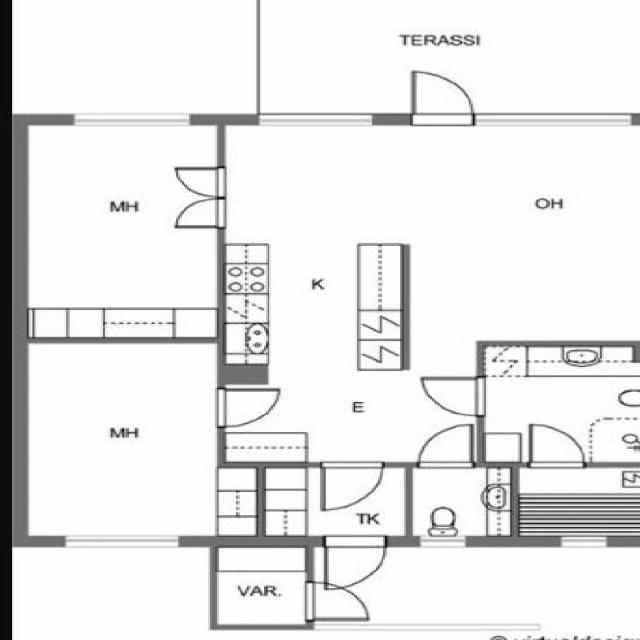door: (325, 536, 386, 590), (413, 72, 473, 125), (320, 462, 383, 511), (418, 423, 473, 467), (306, 582, 368, 620), (217, 389, 279, 427), (422, 378, 484, 416), (531, 425, 584, 467), (173, 197, 224, 228), (173, 167, 224, 197)
